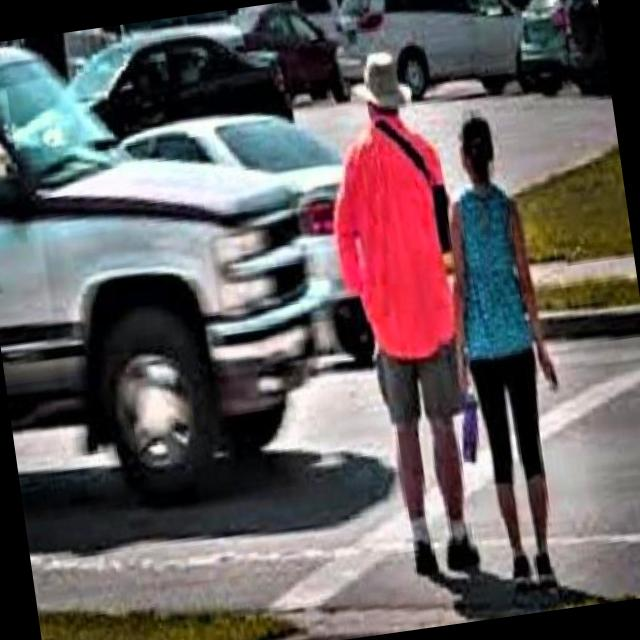Person: (305, 48, 495, 579), (431, 94, 588, 599)
